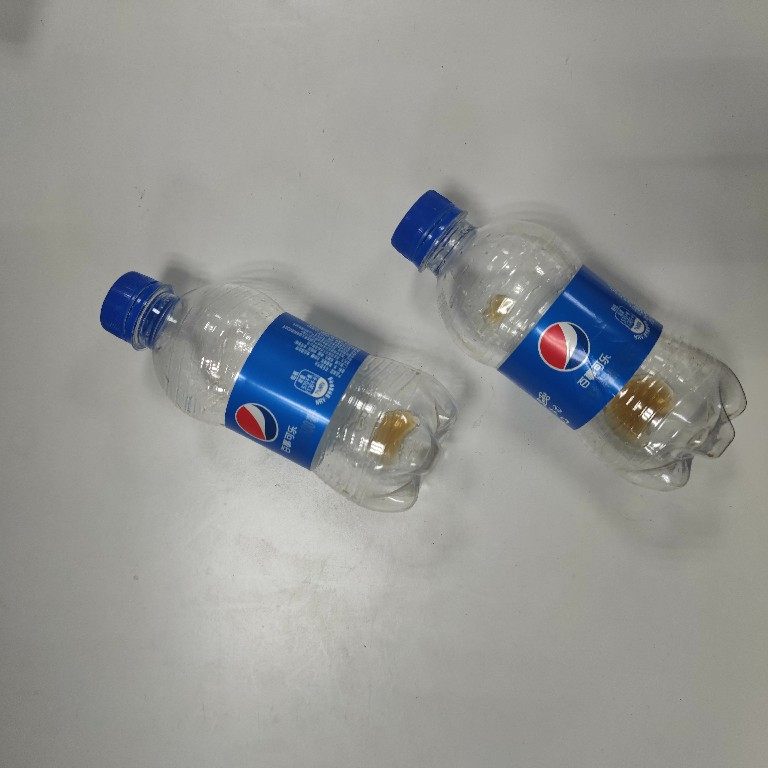bottle: (386, 185, 751, 500), (96, 267, 461, 518)
